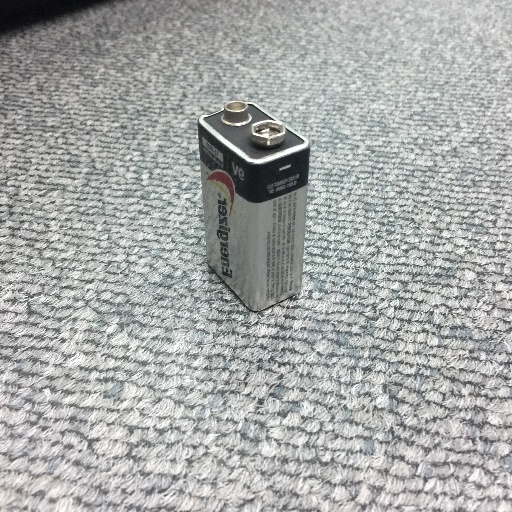Battery_3: (186, 81, 324, 321)
